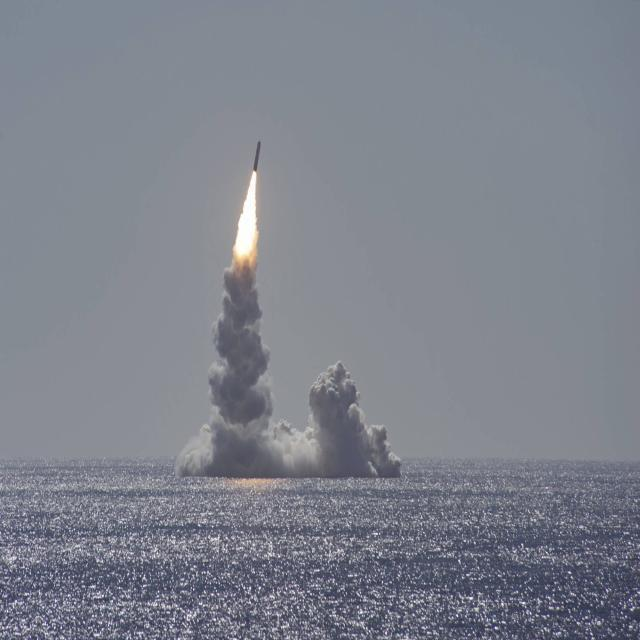missile: (250, 135, 263, 181)
